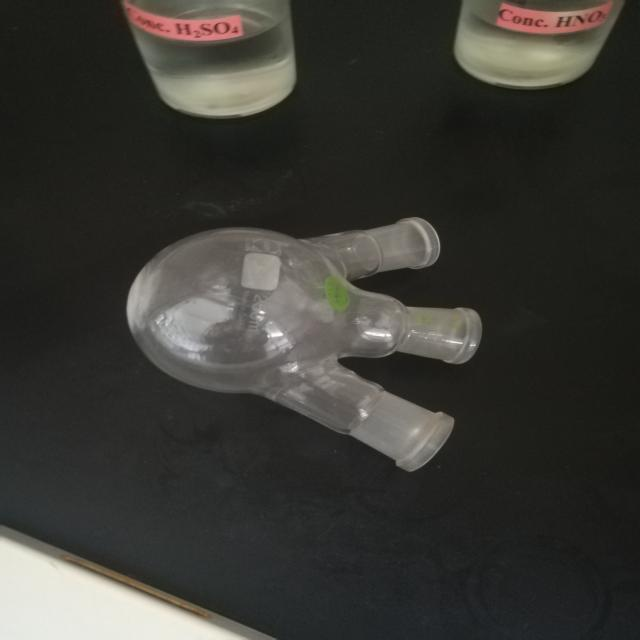Round_Bottom_Flask_Borosilicate_Glass_3_Neck: (102, 176, 526, 509)
